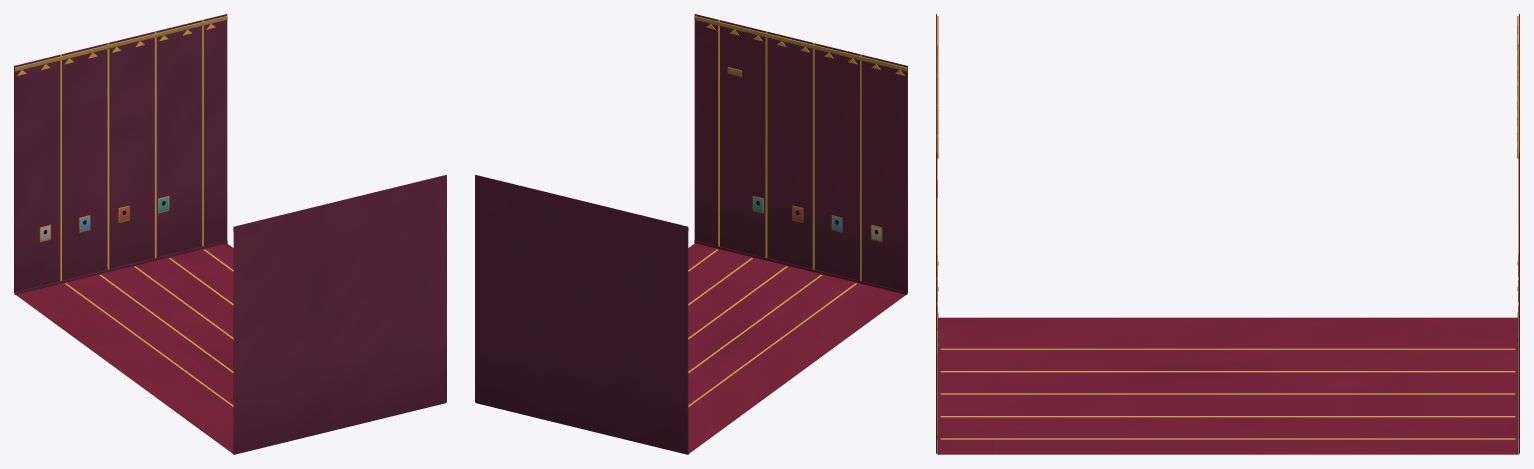
The model's file is SM_Cinema_Foyer.fbx.
3 views of the same model, side by side, from view 1: azimuth 30°, elevation 25°; view 2: azimuth 150°, elevation 25°; view 3: azimuth 270°, elevation 25° (orthographic). The views are drawn at different scales.
Parts seen in each view (by area): view 1: SM_Cinema_Foyer; view 2: SM_Cinema_Foyer; view 3: SM_Cinema_Foyer.
Part boxes in pixels (x1,y1,x2,y2): SM_Cinema_Foyer: [14, 14, 446, 454]; SM_Cinema_Foyer: [475, 14, 907, 454]; SM_Cinema_Foyer: [936, 14, 1519, 454].
Bounding box in the file's own units: 1350 × 1389 × 2418.
